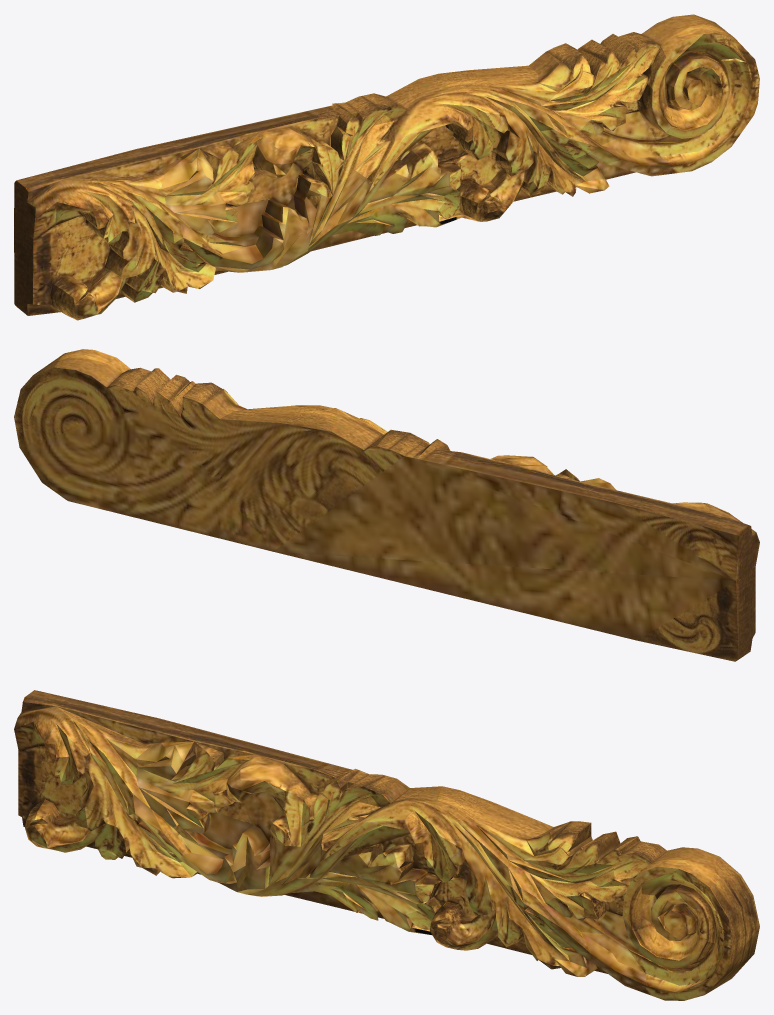
File: scroll.glb
The picture shows the model from 3 angles, top to bottom: view 1: azimuth 30°, elevation 25°; view 2: azimuth 150°, elevation 25°; view 3: azimuth 330°, elevation 25°; orthographic projection.
Visible parts, largest first — view 1: output_unwrapped; view 2: output_unwrapped; view 3: output_unwrapped.
Part boxes in pixels (x1,y1,x2,y2): output_unwrapped: (14, 14, 759, 320); output_unwrapped: (14, 349, 759, 661); output_unwrapped: (14, 690, 759, 1000).
Size of the model in its own units: 1.9 by 0.3416 by 0.1778.
1 material, 1 textured.
